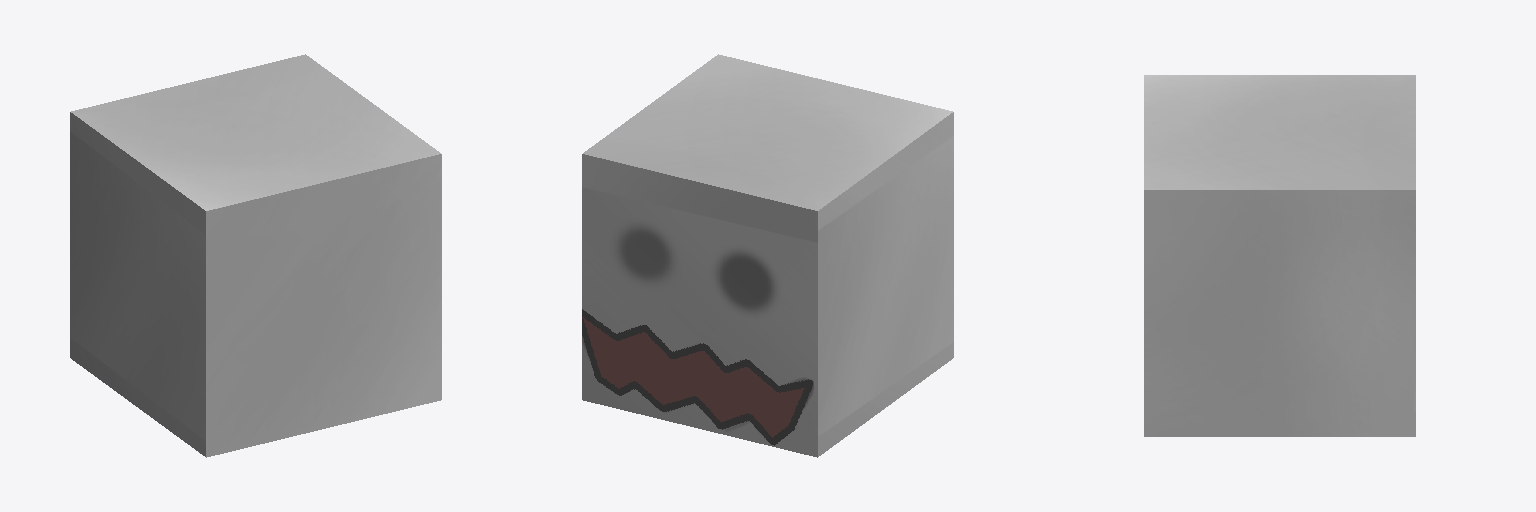
The picture shows the model from 3 angles: view 1: azimuth 30°, elevation 25°; view 2: azimuth 150°, elevation 25°; view 3: azimuth 270°, elevation 25°; orthographic projection.
Parts seen in each view (by area): view 1: Cube.001; view 2: Cube.001; view 3: Cube.001.
Boxes of the visible parts, box(x1,y1,x2,y2) form: Cube.001: box(70, 54, 441, 457); Cube.001: box(582, 54, 953, 457); Cube.001: box(1144, 75, 1415, 436).
Bounding box in the file's own units: 2 × 2 × 2.
Materials: 1 (1 with a texture image).